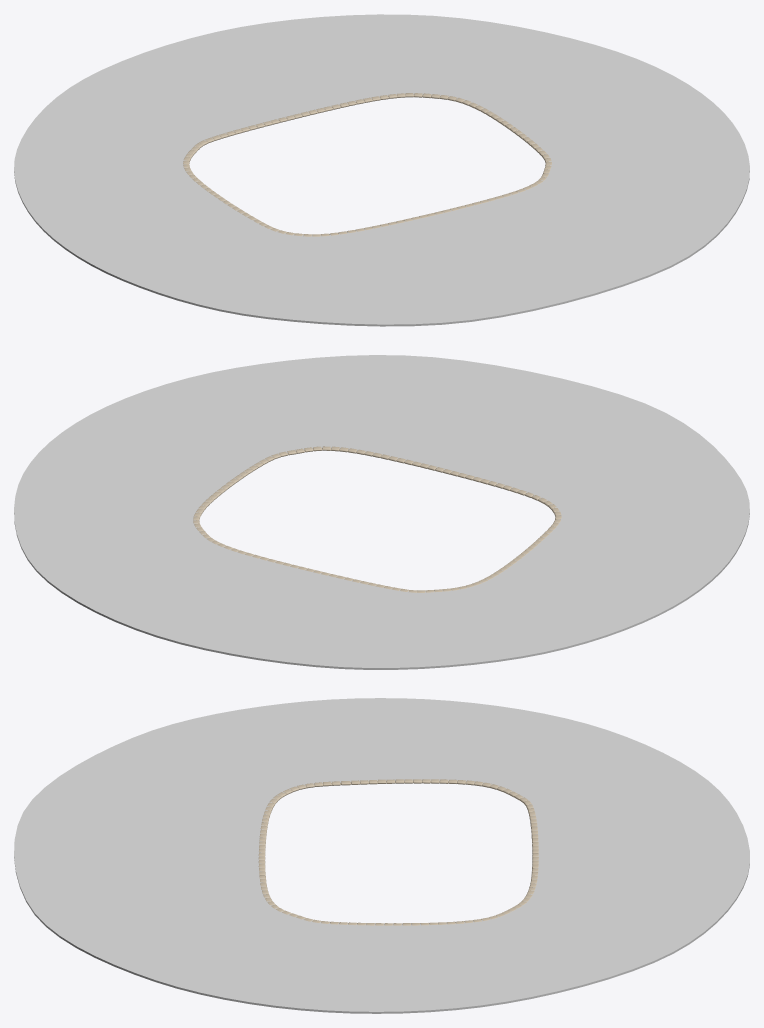
File: snadbags_waterlevel.FBX
3 views of the same model, one above another, from view 1: azimuth 30°, elevation 25°; view 2: azimuth 150°, elevation 25°; view 3: azimuth 270°, elevation 25° (orthographic).
Visible parts, largest first — view 1: waterlevel_top, waterlevel_1; view 2: waterlevel_top, waterlevel_1; view 3: waterlevel_top, waterlevel_1.
Part boxes in pixels (x1=…): waterlevel_top: x1=14, y1=14, x2=749, y2=324; waterlevel_1: x1=14, y1=96, x2=749, y2=326; waterlevel_top: x1=14, y1=355, x2=749, y2=667; waterlevel_1: x1=14, y1=447, x2=749, y2=669; waterlevel_top: x1=14, y1=698, x2=749, y2=1011; waterlevel_1: x1=14, y1=780, x2=749, y2=1013.
Bounding box in the file's own units: 51.55 × 51.1 × 0.1623.
